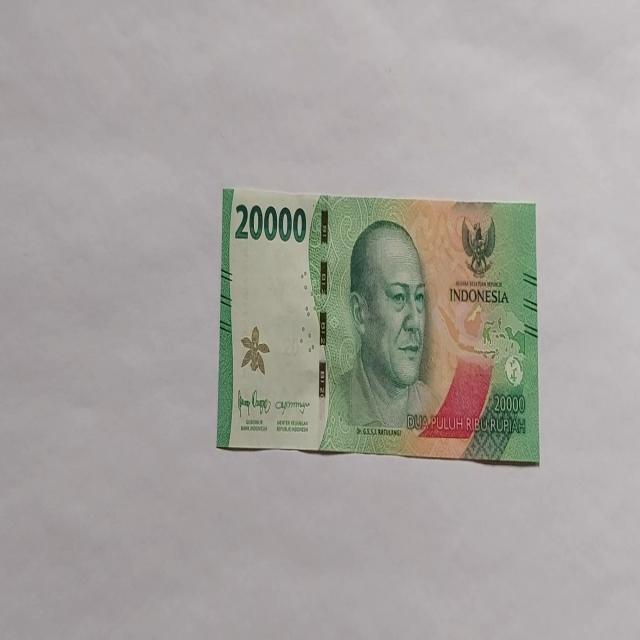dua puluh ribu rupiah: (216, 186, 539, 464)
